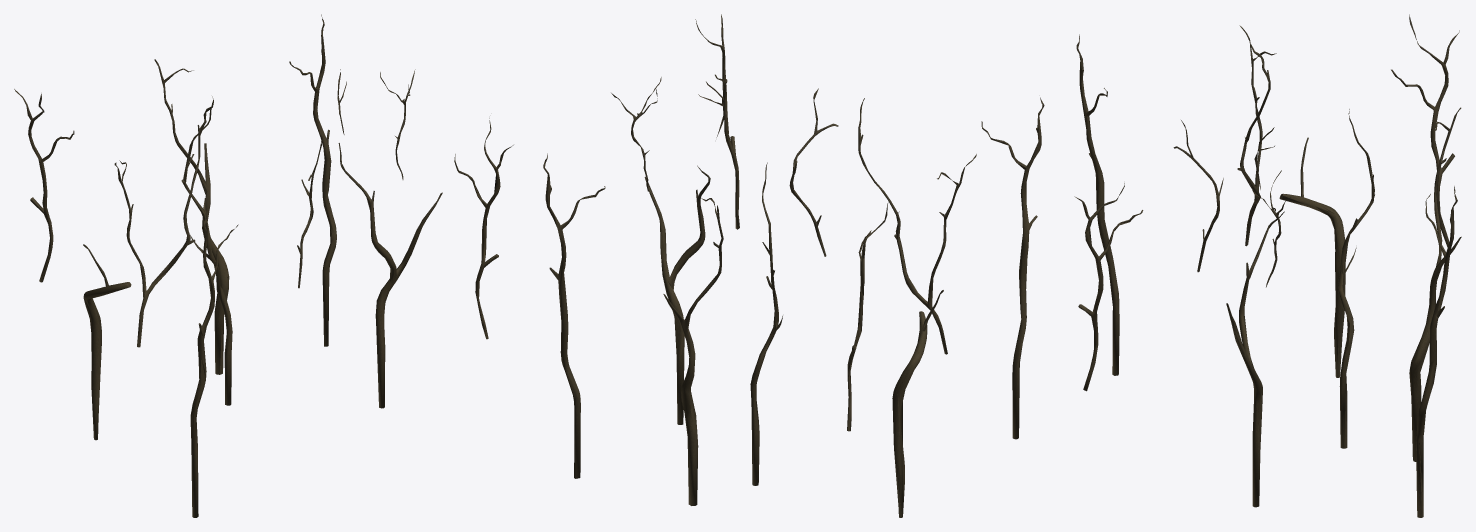
File: Meshy_AI_Trees_are_sparse_thi_0822235212_texture.obj
The picture shows the model from 3 angles, left to right: view 1: azimuth 30°, elevation 25°; view 2: azimuth 150°, elevation 25°; view 3: azimuth 270°, elevation 25°; orthographic projection. The views are drawn at different scales.
Visible parts, largest first — view 1: Meshy_AI_Trees_are_sparse_thi_0822235212_texture; view 2: Meshy_AI_Trees_are_sparse_thi_0822235212_texture; view 3: Meshy_AI_Trees_are_sparse_thi_0822235212_texture.
Part boxes in pixels (left/top/right/bottom): Meshy_AI_Trees_are_sparse_thi_0822235212_texture: left=14, top=14, right=513, bottom=517; Meshy_AI_Trees_are_sparse_thi_0822235212_texture: left=543, top=14, right=1044, bottom=517; Meshy_AI_Trees_are_sparse_thi_0822235212_texture: left=1074, top=14, right=1461, bottom=517.
Bounding box in the file's own units: 1.84 × 1.9 × 1.79.
1 material, 1 textured.
